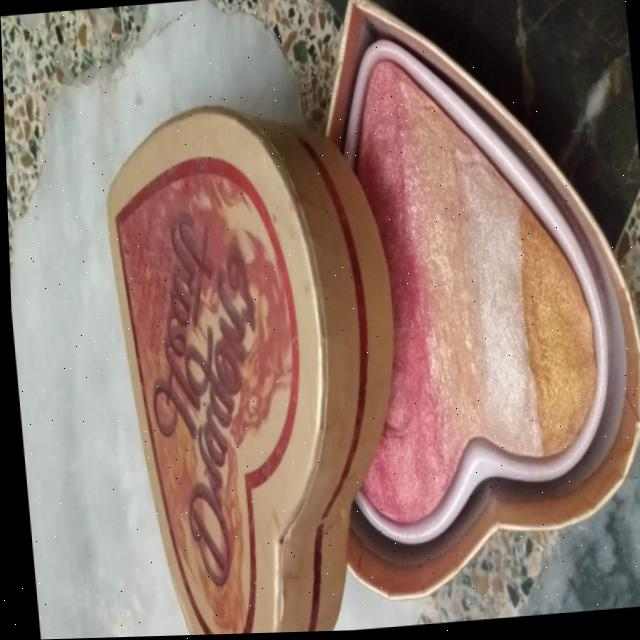blush: (275, 0, 640, 616)
